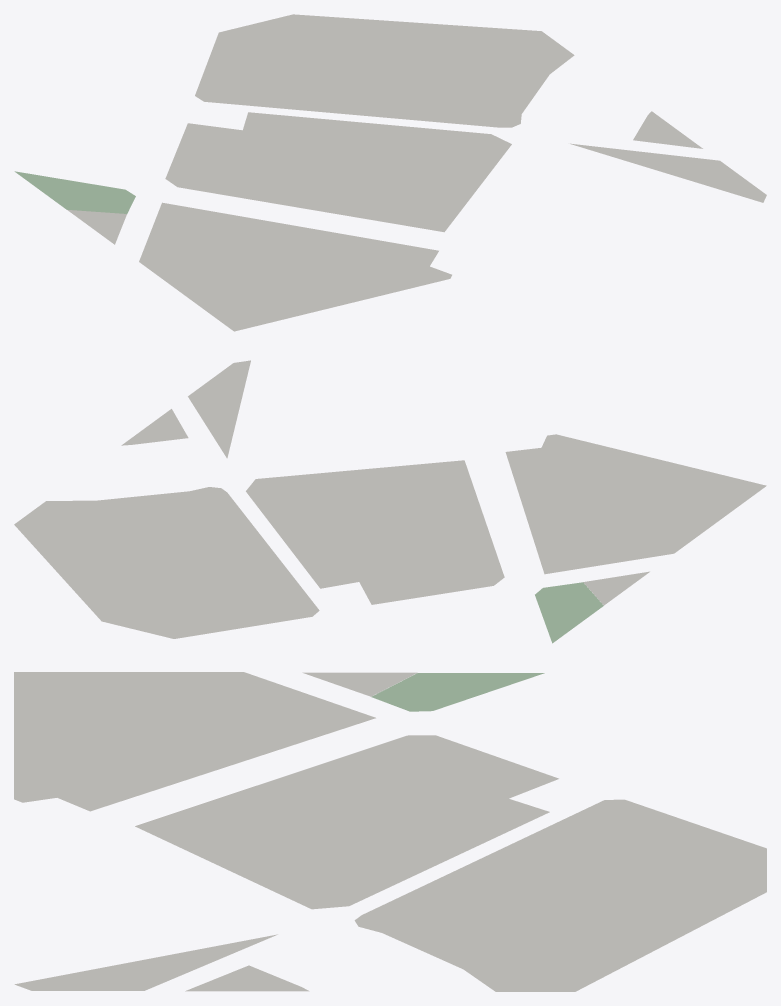
File: 104_115_mid.glb
3 renders of one model, top to bottom at view 1: azimuth 30°, elevation 25°; view 2: azimuth 150°, elevation 25°; view 3: azimuth 270°, elevation 25°, orthographic. The views are drawn at different scales.
Bounding box in the file's own units: 500 × 1.28 × 500.
